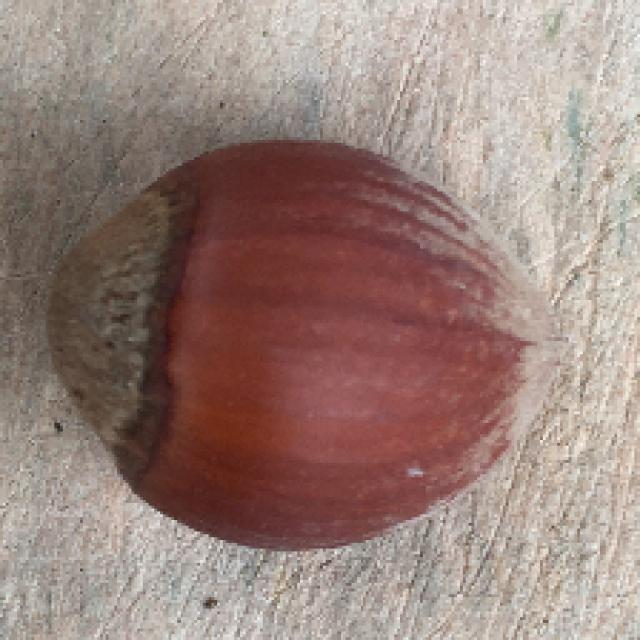qualityHazelnut: (46, 136, 570, 558)
